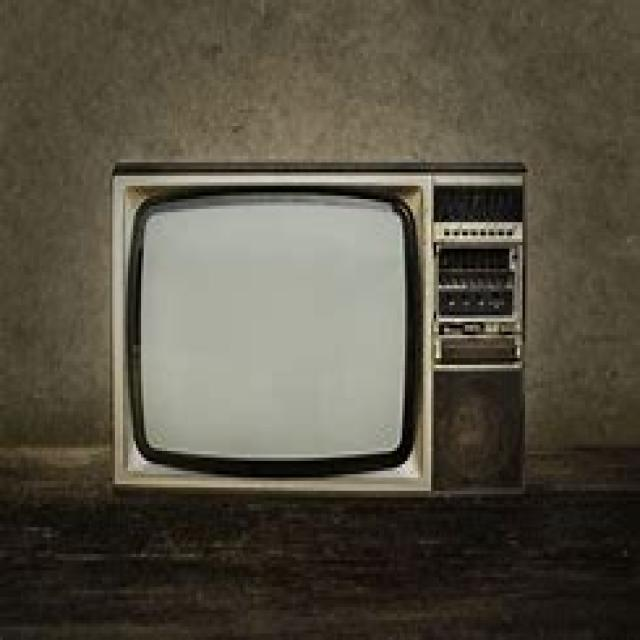tv: (107, 160, 528, 498)
